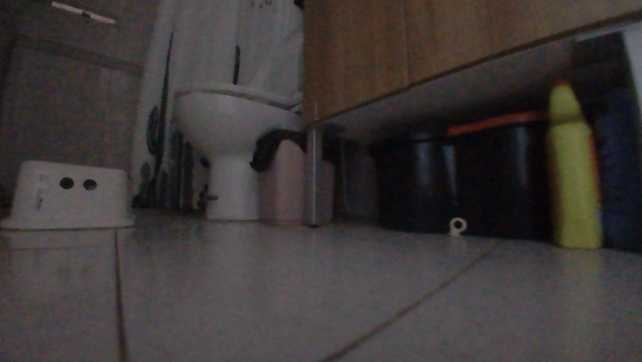toilet: (169, 24, 304, 222)
trash_can: (255, 126, 340, 224)
